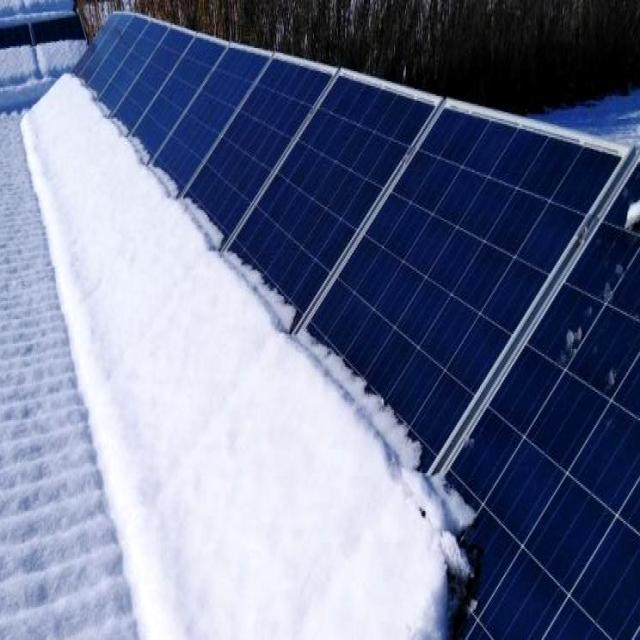panel: (210, 236, 326, 430), (563, 178, 638, 384), (329, 324, 406, 491), (420, 418, 483, 616), (152, 169, 228, 297), (71, 51, 139, 154)
